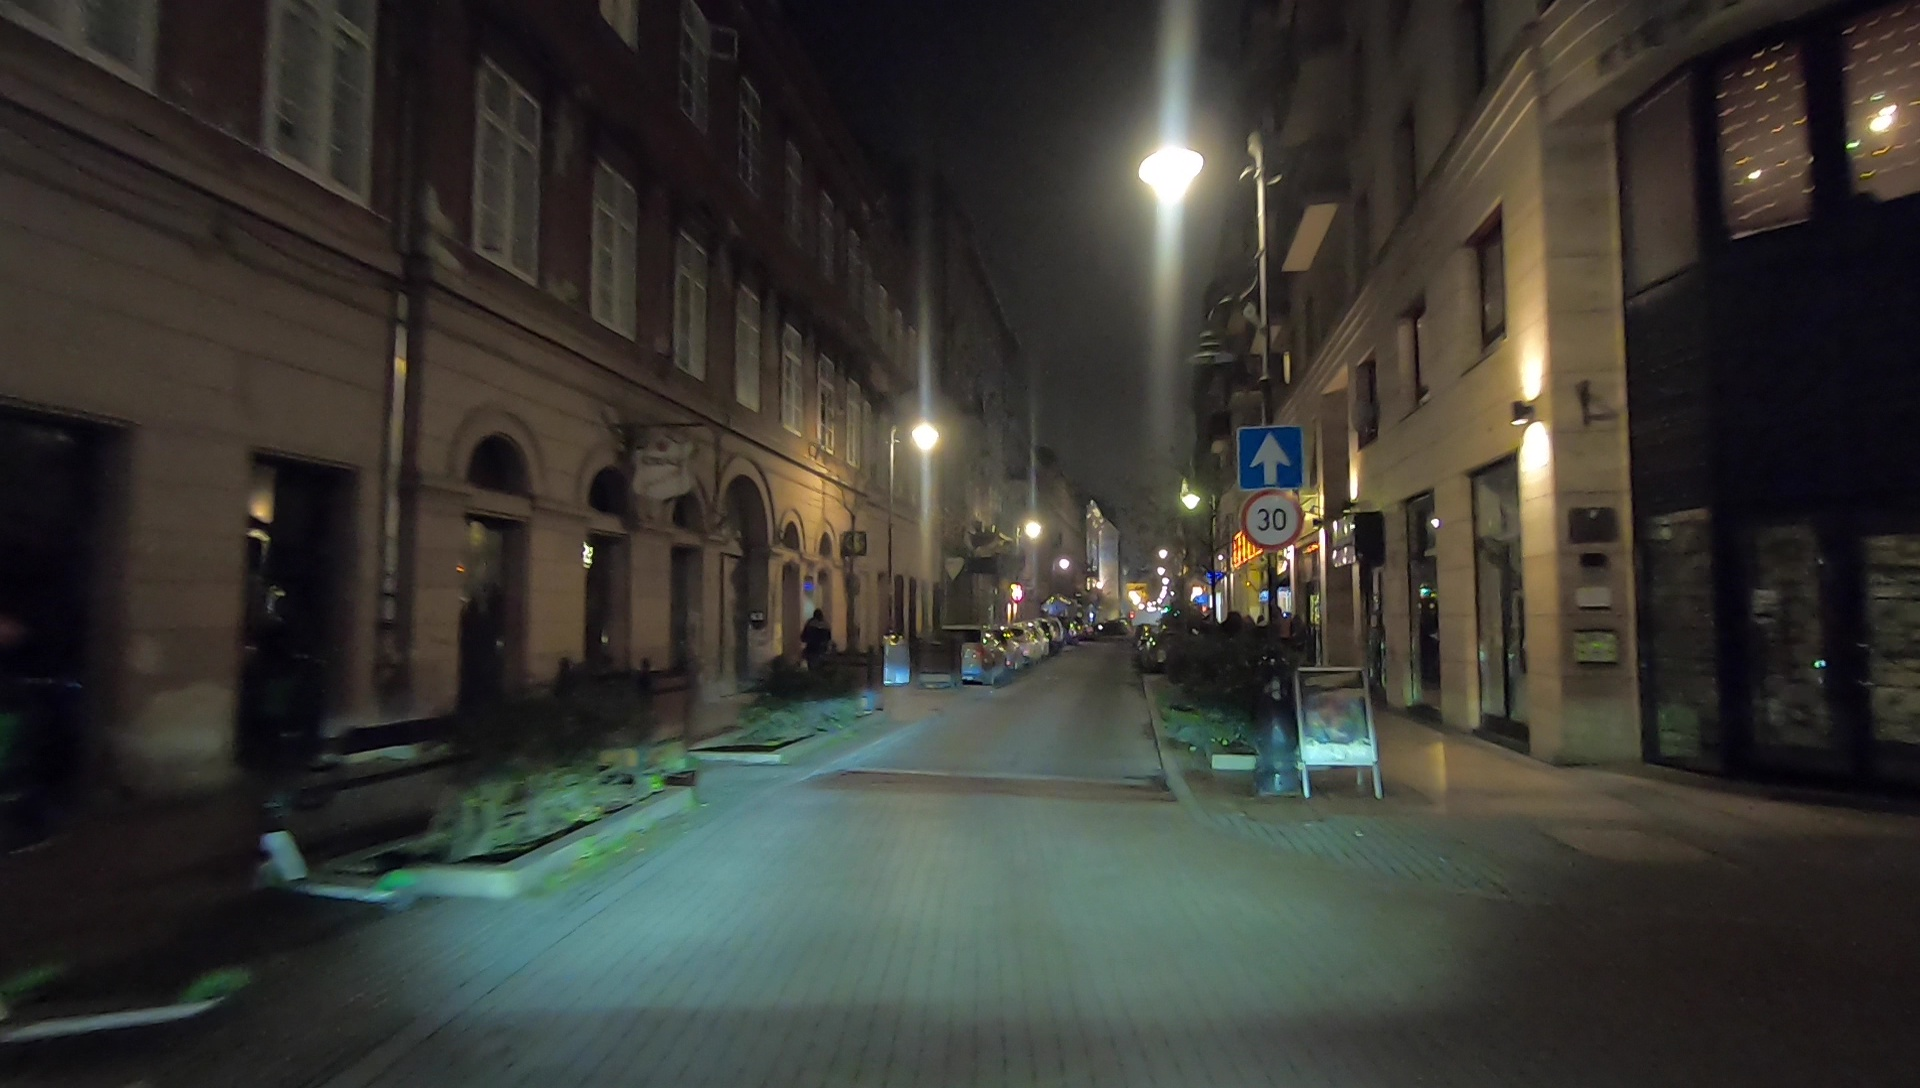person: (801, 611, 832, 680), (1294, 611, 1317, 684), (1272, 606, 1294, 689)
